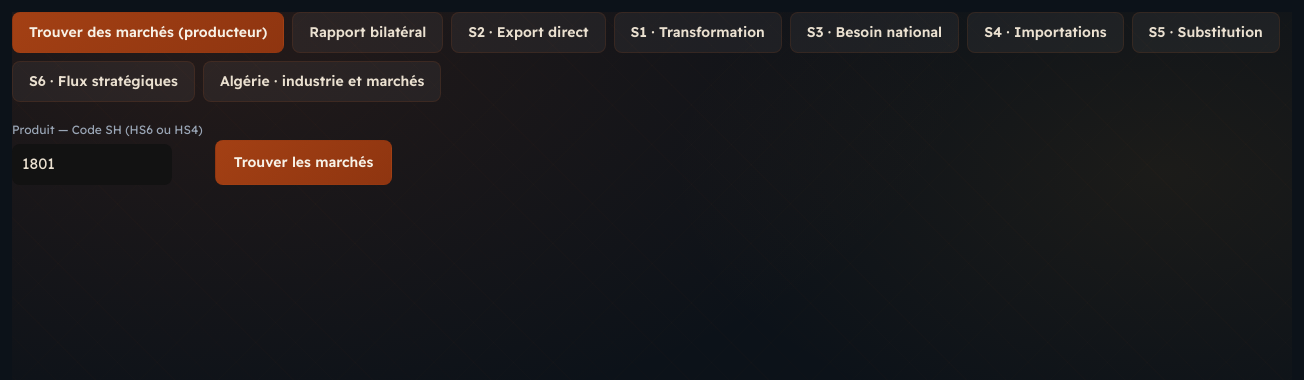
Test: OpportunityReportTab — S6 · Strategic flows mode › mounts StrategicFlows and loads the country list when S6 is selected
The image size is (1304, 380).
What coordinates should you click on to do the following:
click the button with test id "mode-s6"
I would click on:
 (103, 82)
Its box is x1=12 y1=61 x2=195 y2=102.
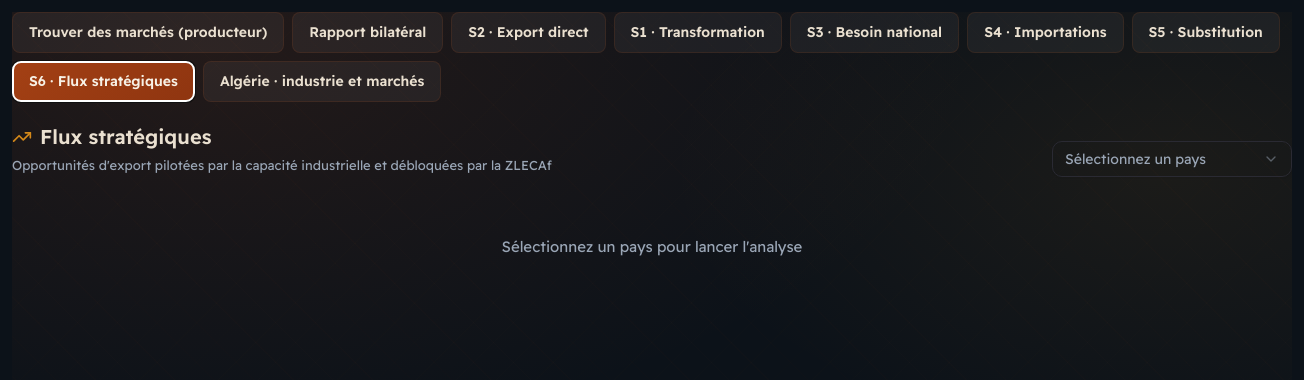
Check: the element with test id "strategic-flows" is shown, box x1=12 y1=120 x2=1292 y2=299
